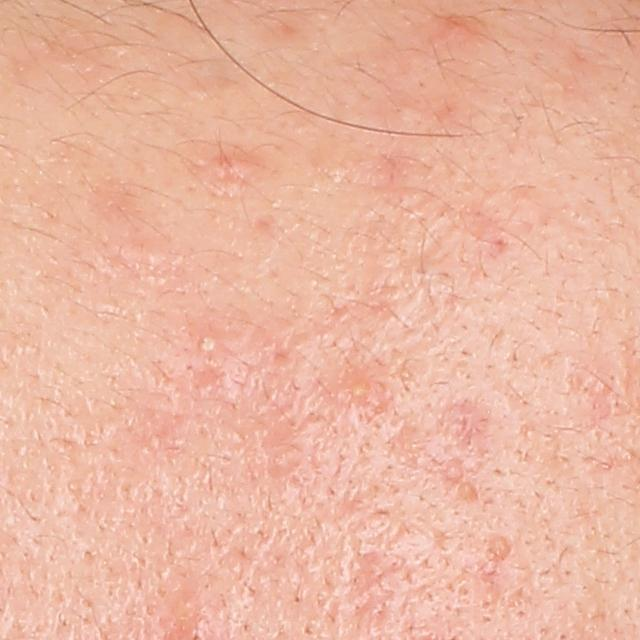comedo: (456, 481, 476, 499)
papule: (442, 15, 473, 39)
pustule: (194, 328, 218, 356)
